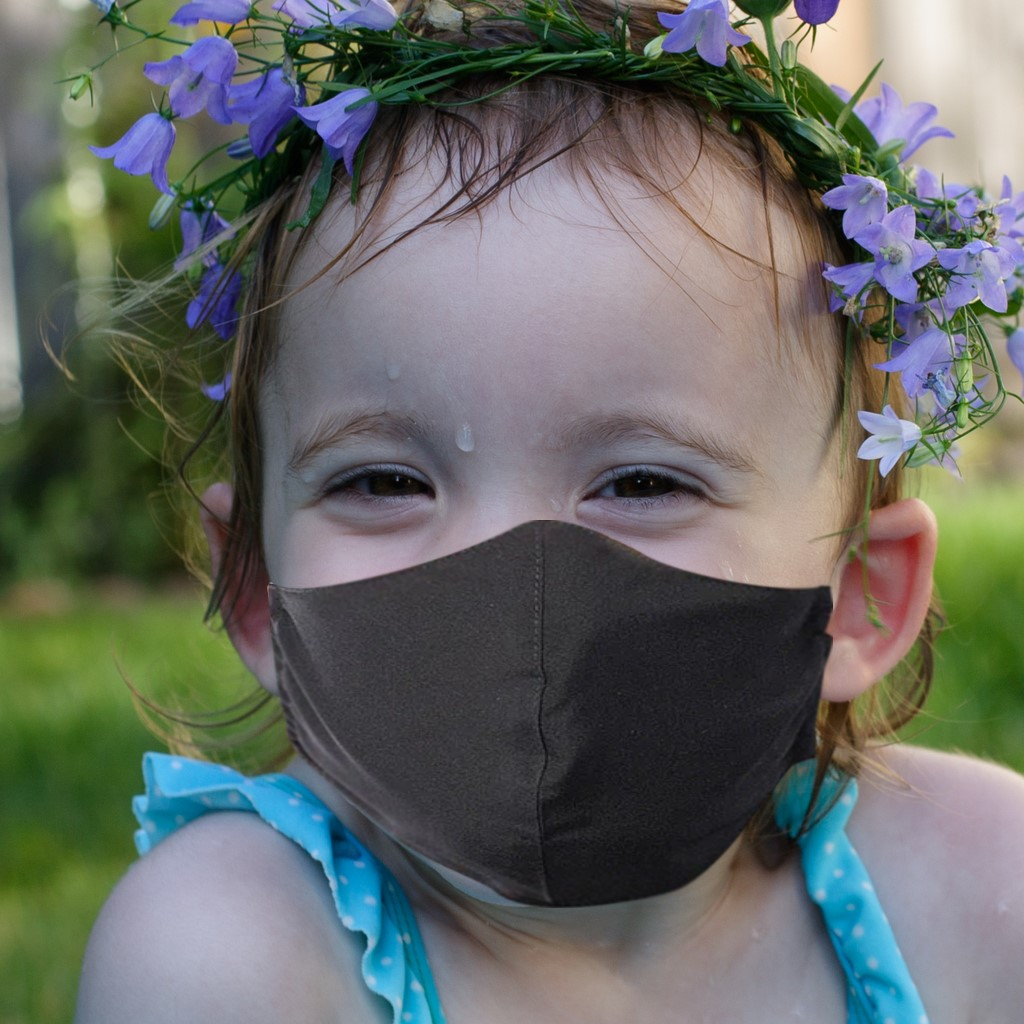con_mascara: (230, 79, 853, 889)
